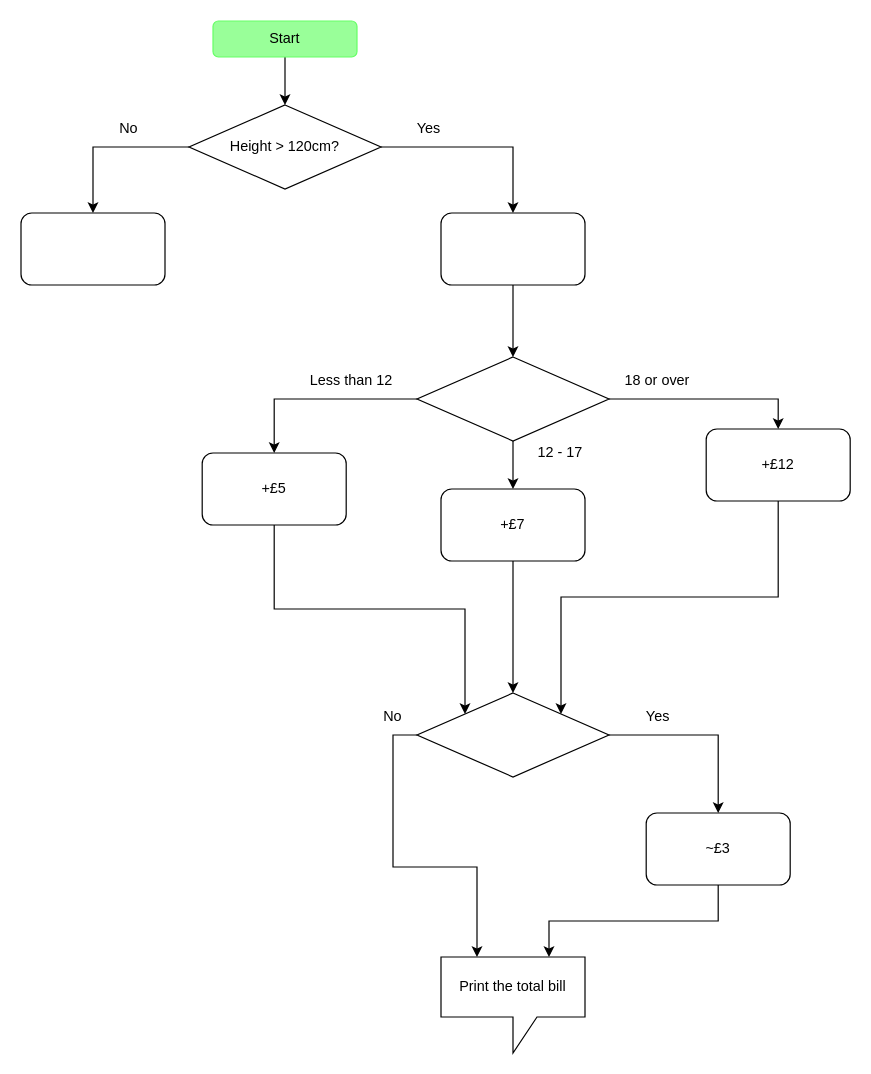
Image size: 871x1074. Some labels were removed from this diagram. The shapes that lost their labels are listed below. From the top down, each one's centre as x and y in pixels, then its label:
At point 92,248: "Can`t ride".
At point 512,248: "Can ride".
At point 512,398: "age".
At point 512,734: "Want Photo?".
